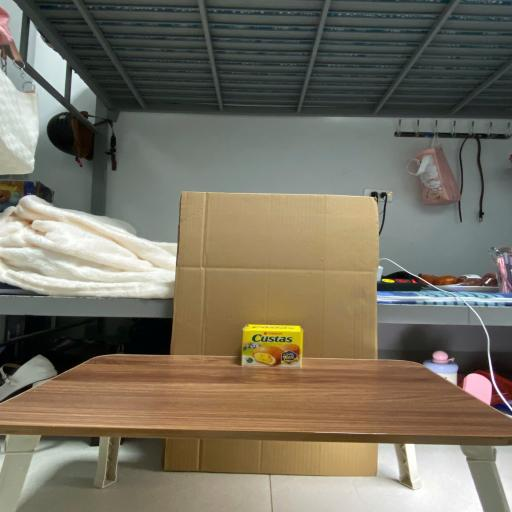custas: (241, 324, 304, 368)
